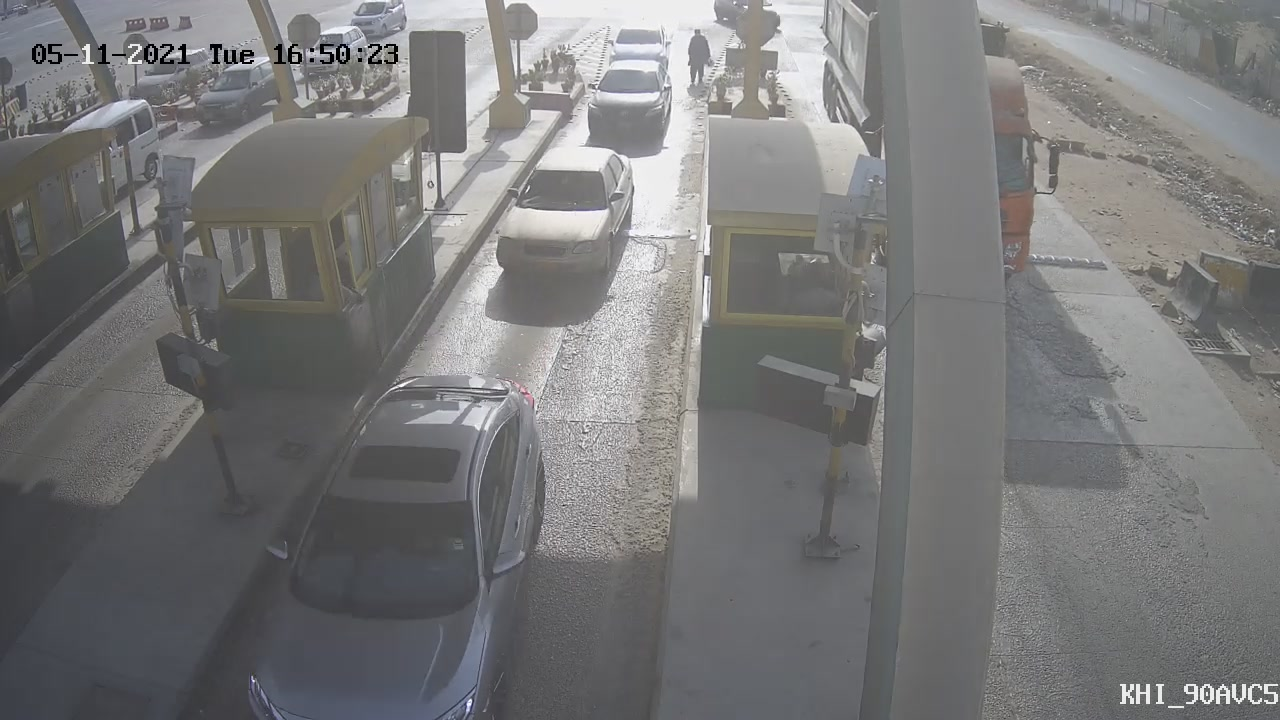F1: (477, 130, 655, 301), (572, 49, 689, 159)
